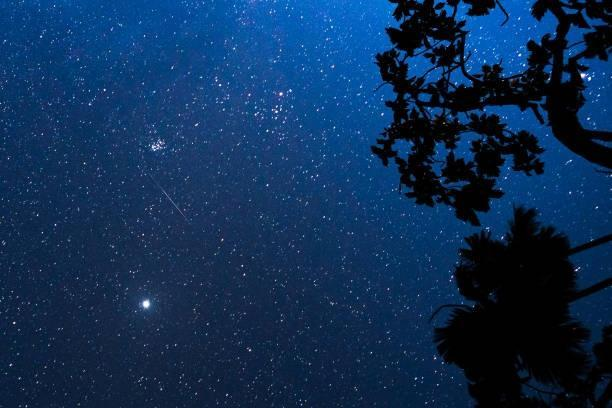meteorite: (143, 170, 201, 225)
